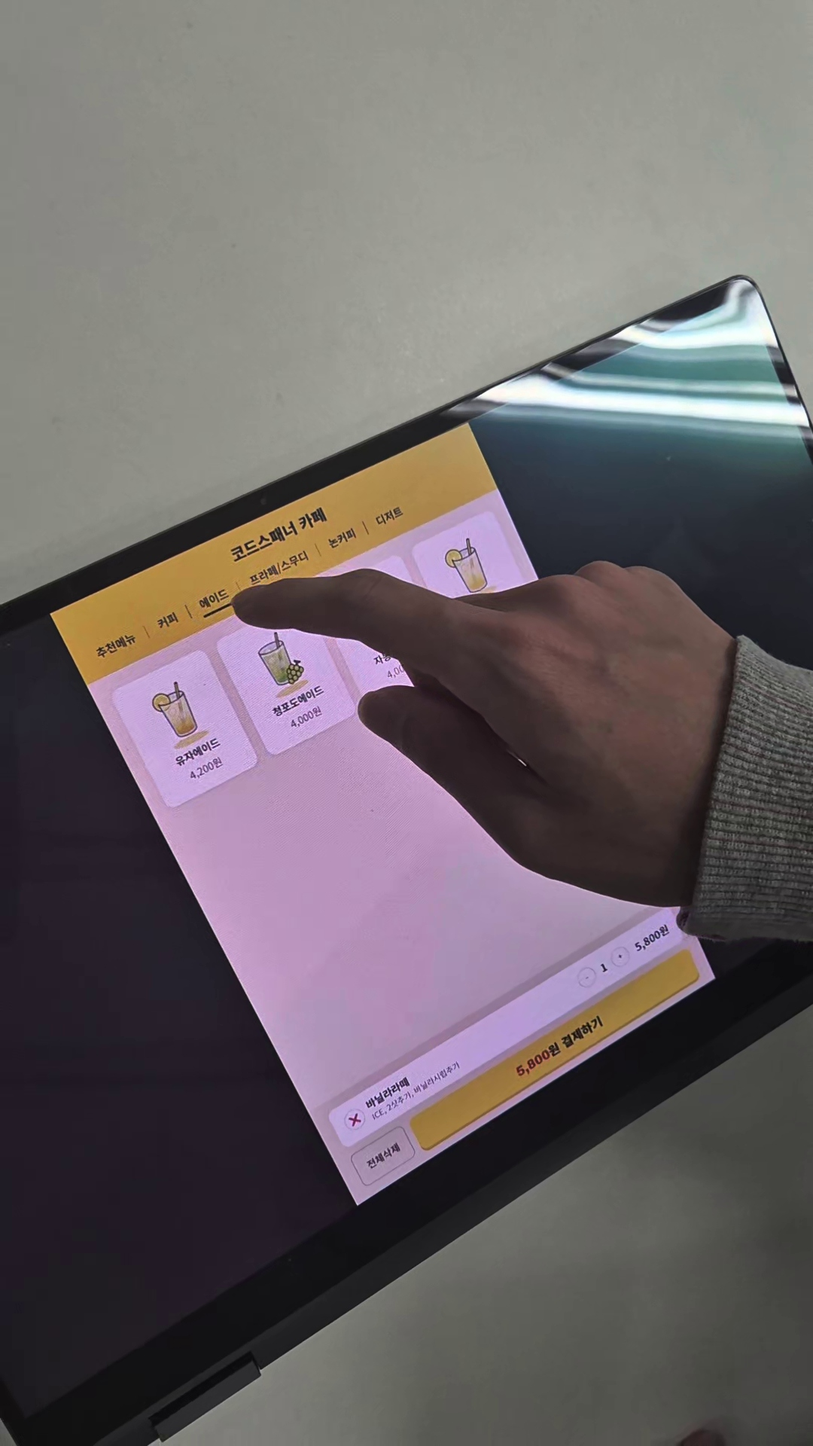action_button: (408, 948, 701, 1152), (352, 1127, 416, 1185)
cart_item: (330, 911, 685, 1147)
category_tab: (248, 547, 312, 589), (93, 630, 138, 663), (194, 585, 232, 612), (326, 525, 360, 553), (373, 503, 405, 531), (153, 609, 182, 632)
menu_back: (112, 650, 256, 807), (214, 598, 358, 754), (409, 508, 543, 661)
menu_name: (268, 680, 329, 722), (170, 734, 222, 769)
menu_price: (185, 754, 226, 783), (286, 705, 326, 732)
